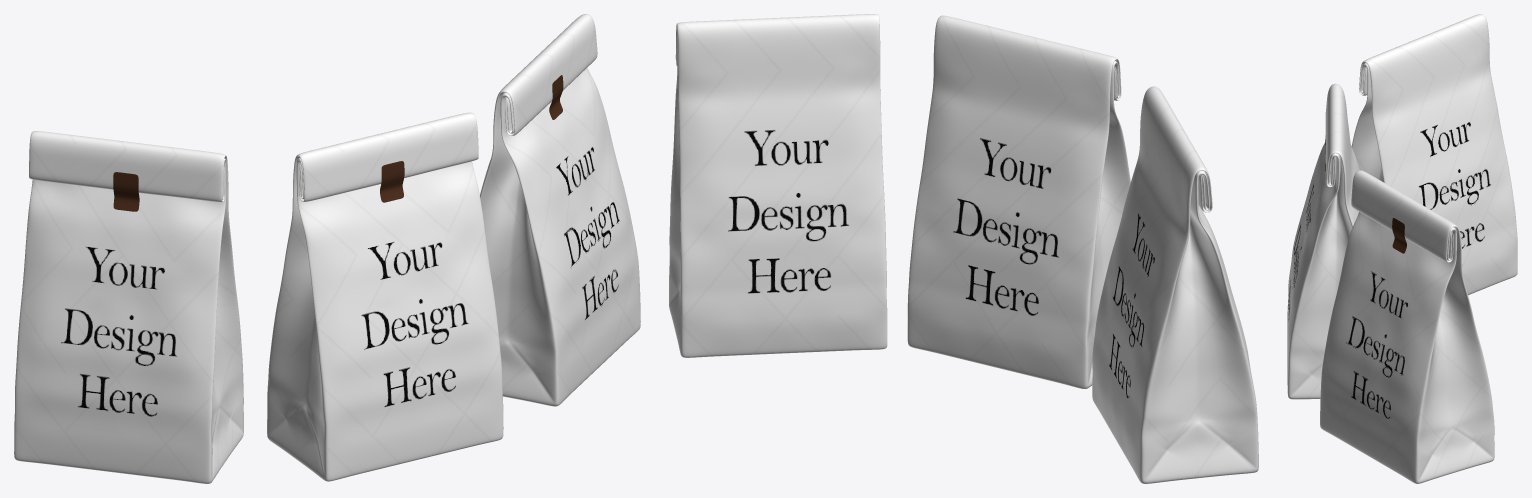
The model's file is Kraft paper A-5.glb.
3 renders of one model, left to right at view 1: azimuth 30°, elevation 25°; view 2: azimuth 150°, elevation 25°; view 3: azimuth 270°, elevation 25°, orthographic. The views are drawn at different scales.
Parts seen in each view (by area): view 1: _gltfNode_0.002, _gltfNode_0.001, _gltfNode_0, _gltfNode_1.002, _gltfNode_1.001; view 2: _gltfNode_0, _gltfNode_0.001, _gltfNode_0.002; view 3: _gltfNode_0, _gltfNode_0.002, _gltfNode_0.001, _gltfNode_1.
Boxes of the visible parts, box(x1,y1,x2,y2) form: _gltfNode_0.002: box(14, 131, 243, 483); _gltfNode_0.001: box(267, 112, 503, 481); _gltfNode_0: box(480, 14, 640, 406); _gltfNode_1.002: box(113, 172, 139, 211); _gltfNode_1.001: box(380, 161, 404, 202); _gltfNode_0: box(669, 14, 887, 357); _gltfNode_0.001: box(907, 15, 1130, 388); _gltfNode_0.002: box(1092, 86, 1258, 483); _gltfNode_0: box(1320, 170, 1494, 483); _gltfNode_0.002: box(1351, 14, 1517, 295); _gltfNode_0.001: box(1287, 83, 1359, 399); _gltfNode_1: box(1392, 218, 1406, 253).
Size of the model in its own units: 43.68 by 21.2 by 17.85.
2 materials, 1 textured.
